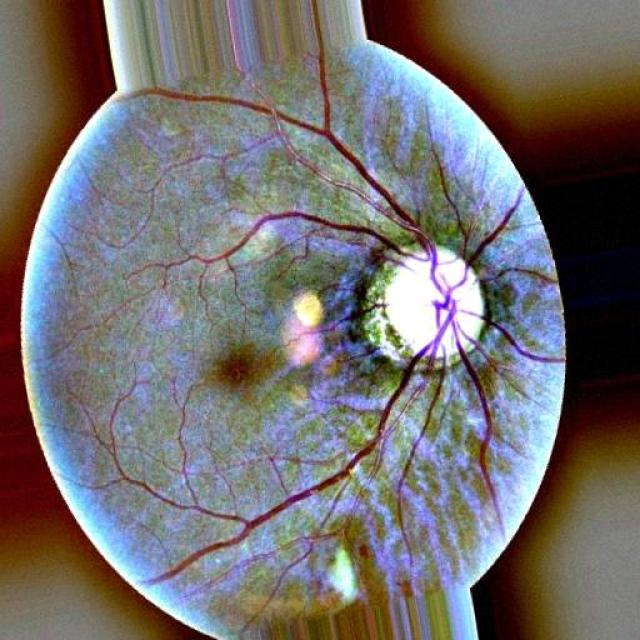Macula: (203, 336, 271, 401)
Nerves: (158, 82, 553, 575)
Optic Disk: (337, 229, 514, 392)
